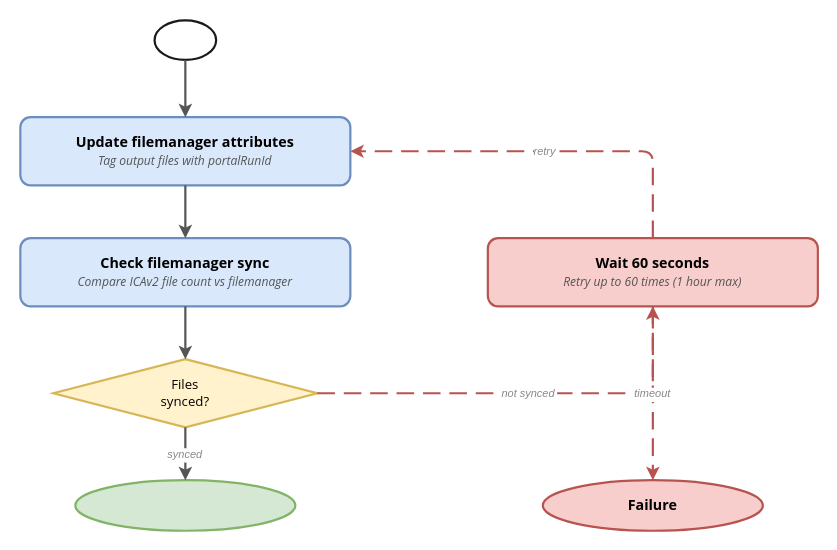
This 837x550 diagram has some shape labels left out. Here are the shapes that lost their labels. From the top down, the centre of each, then its label:
At point 185,40: "Start".
At point 185,505: "Success".
